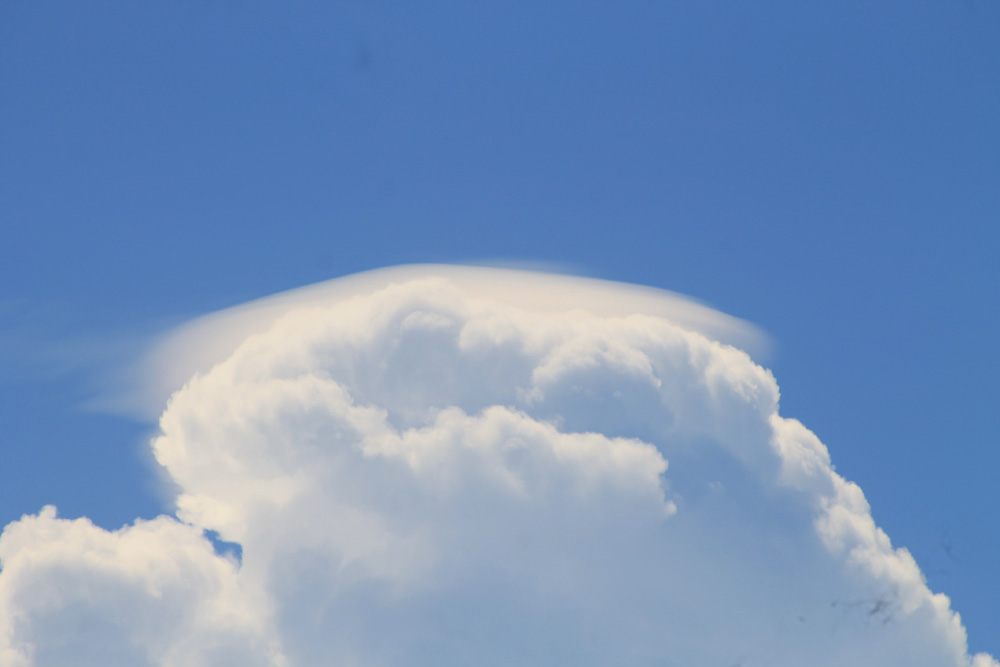Cumulus: (167, 231, 980, 667), (3, 492, 272, 667)
